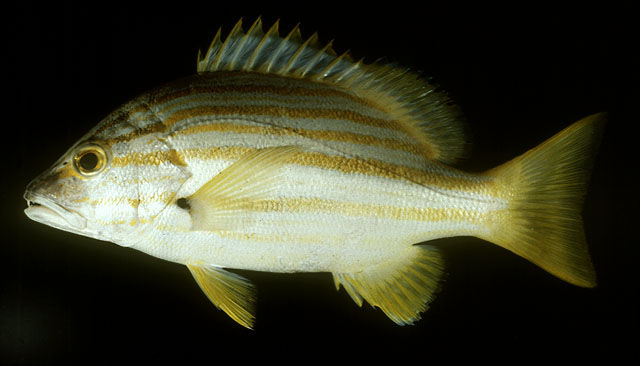fish: (22, 17, 600, 332)
